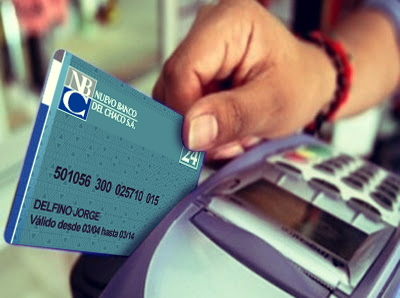tarjeta: (5, 49, 206, 257)
